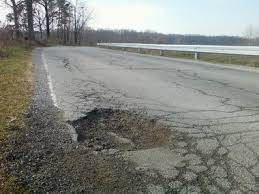pothole: (61, 96, 179, 166)
